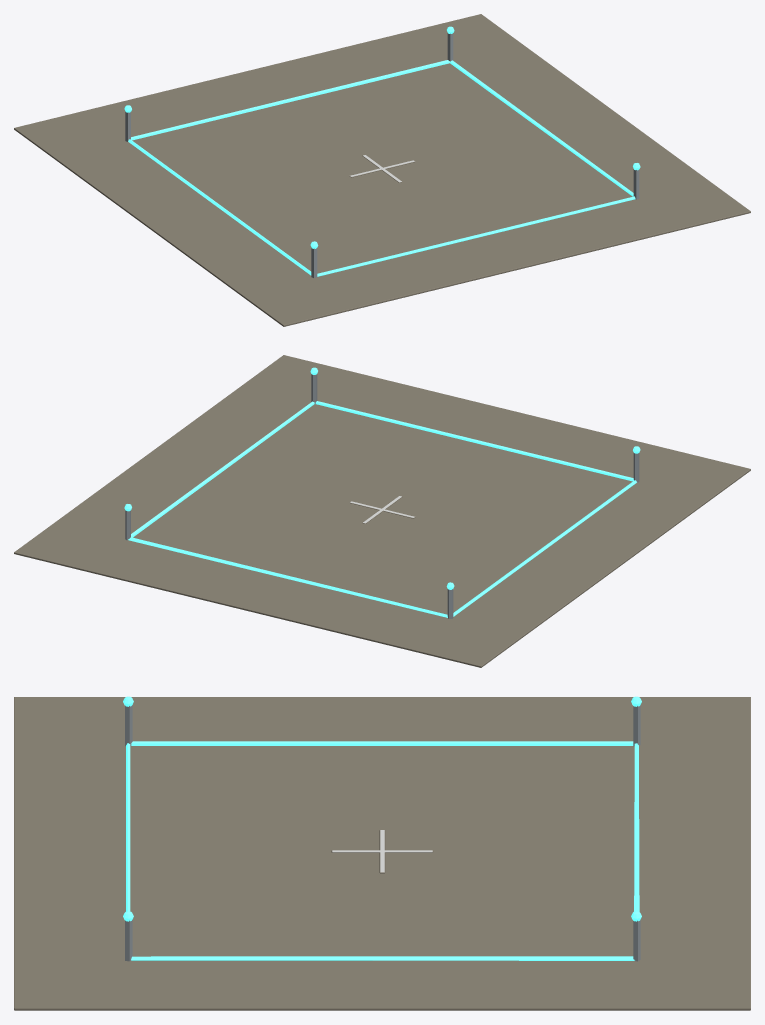
The model's file is prp_plot_marker.fbx.
3 renders of one model, top to bottom at view 1: azimuth 30°, elevation 25°; view 2: azimuth 150°, elevation 25°; view 3: azimuth 270°, elevation 25°, orthographic. The views are drawn at different scales.
Visible parts, largest first — view 1: prp_plot_marker; view 2: prp_plot_marker; view 3: prp_plot_marker.
Boxes of the visible parts, bbox=[...] form: prp_plot_marker: bbox=[14, 14, 750, 326]; prp_plot_marker: bbox=[14, 355, 750, 667]; prp_plot_marker: bbox=[14, 696, 750, 1010].
Bounding box in the file's own units: 16 × 16 × 1.22.
